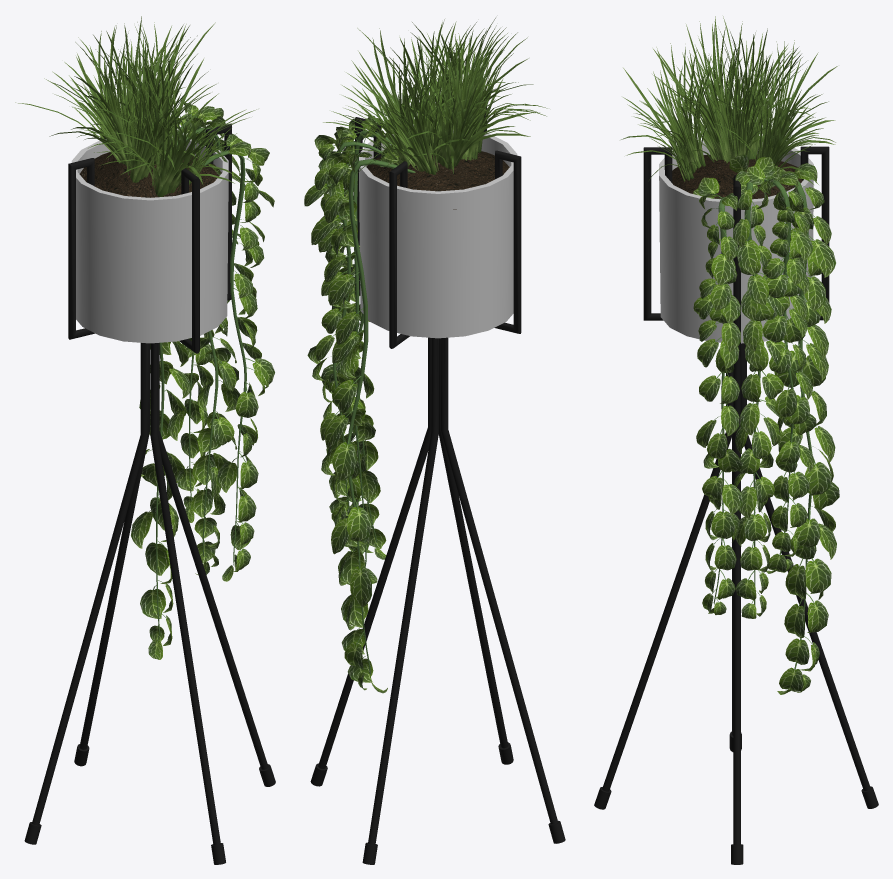
Rendered from plant04.gltf.
3 renders of one model, left to right at view 1: azimuth 30°, elevation 25°; view 2: azimuth 150°, elevation 25°; view 3: azimuth 270°, elevation 25°, orthographic. The views are drawn at different scales.
Parts seen in each view (by area): view 1: g 4; view 2: g 4; view 3: g 4.
Boxes of the visible parts, left/top/right/bottom form: g 4: left=15, top=16, right=275, bottom=864; g 4: left=304, top=18, right=565, bottom=864; g 4: left=594, top=16, right=878, bottom=864.
Bounding box in the file's own units: 0.2317 × 0.7026 × 0.2317.
Materials: 1 (1 with a texture image).
